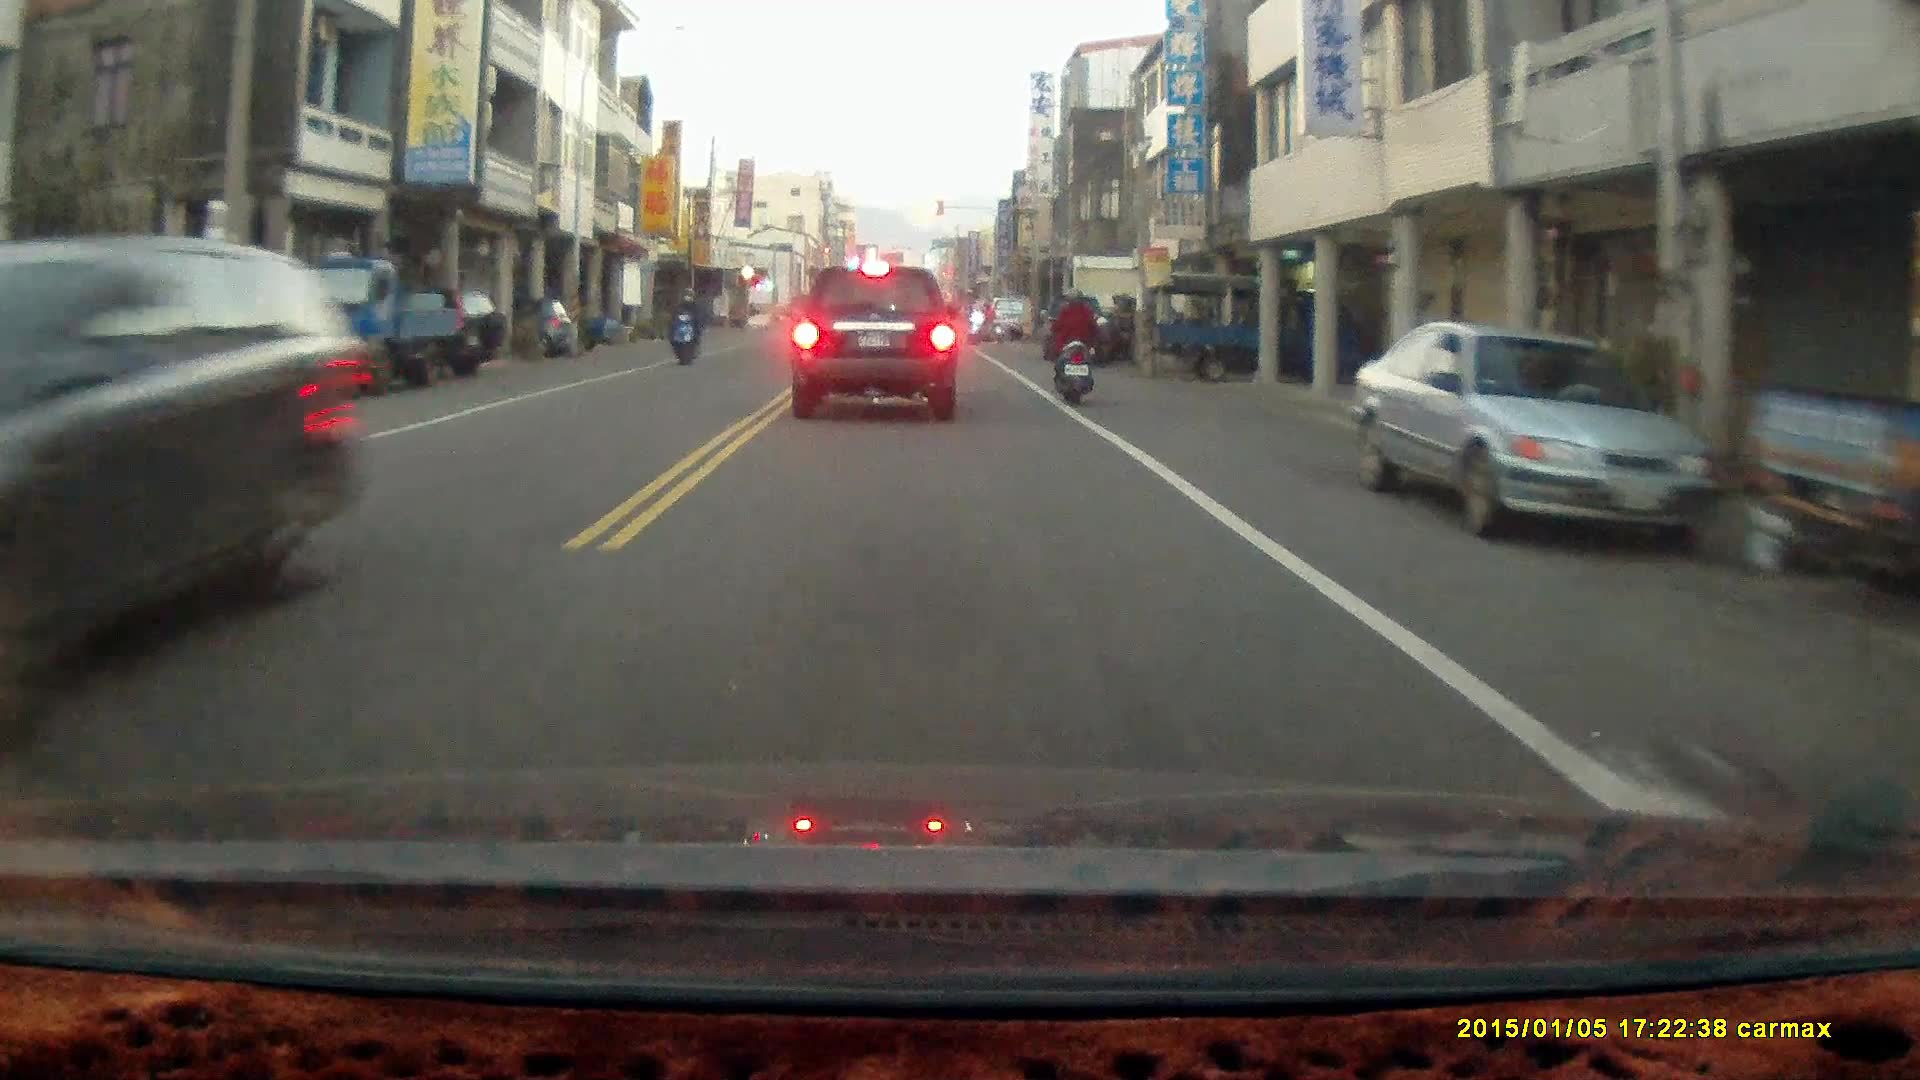rider: (1049, 284, 1098, 405), (668, 279, 706, 361), (965, 296, 1003, 343)
vehicle: (1, 231, 385, 712), (1350, 320, 1723, 562), (792, 261, 962, 425), (1149, 261, 1386, 376), (273, 245, 462, 380)
